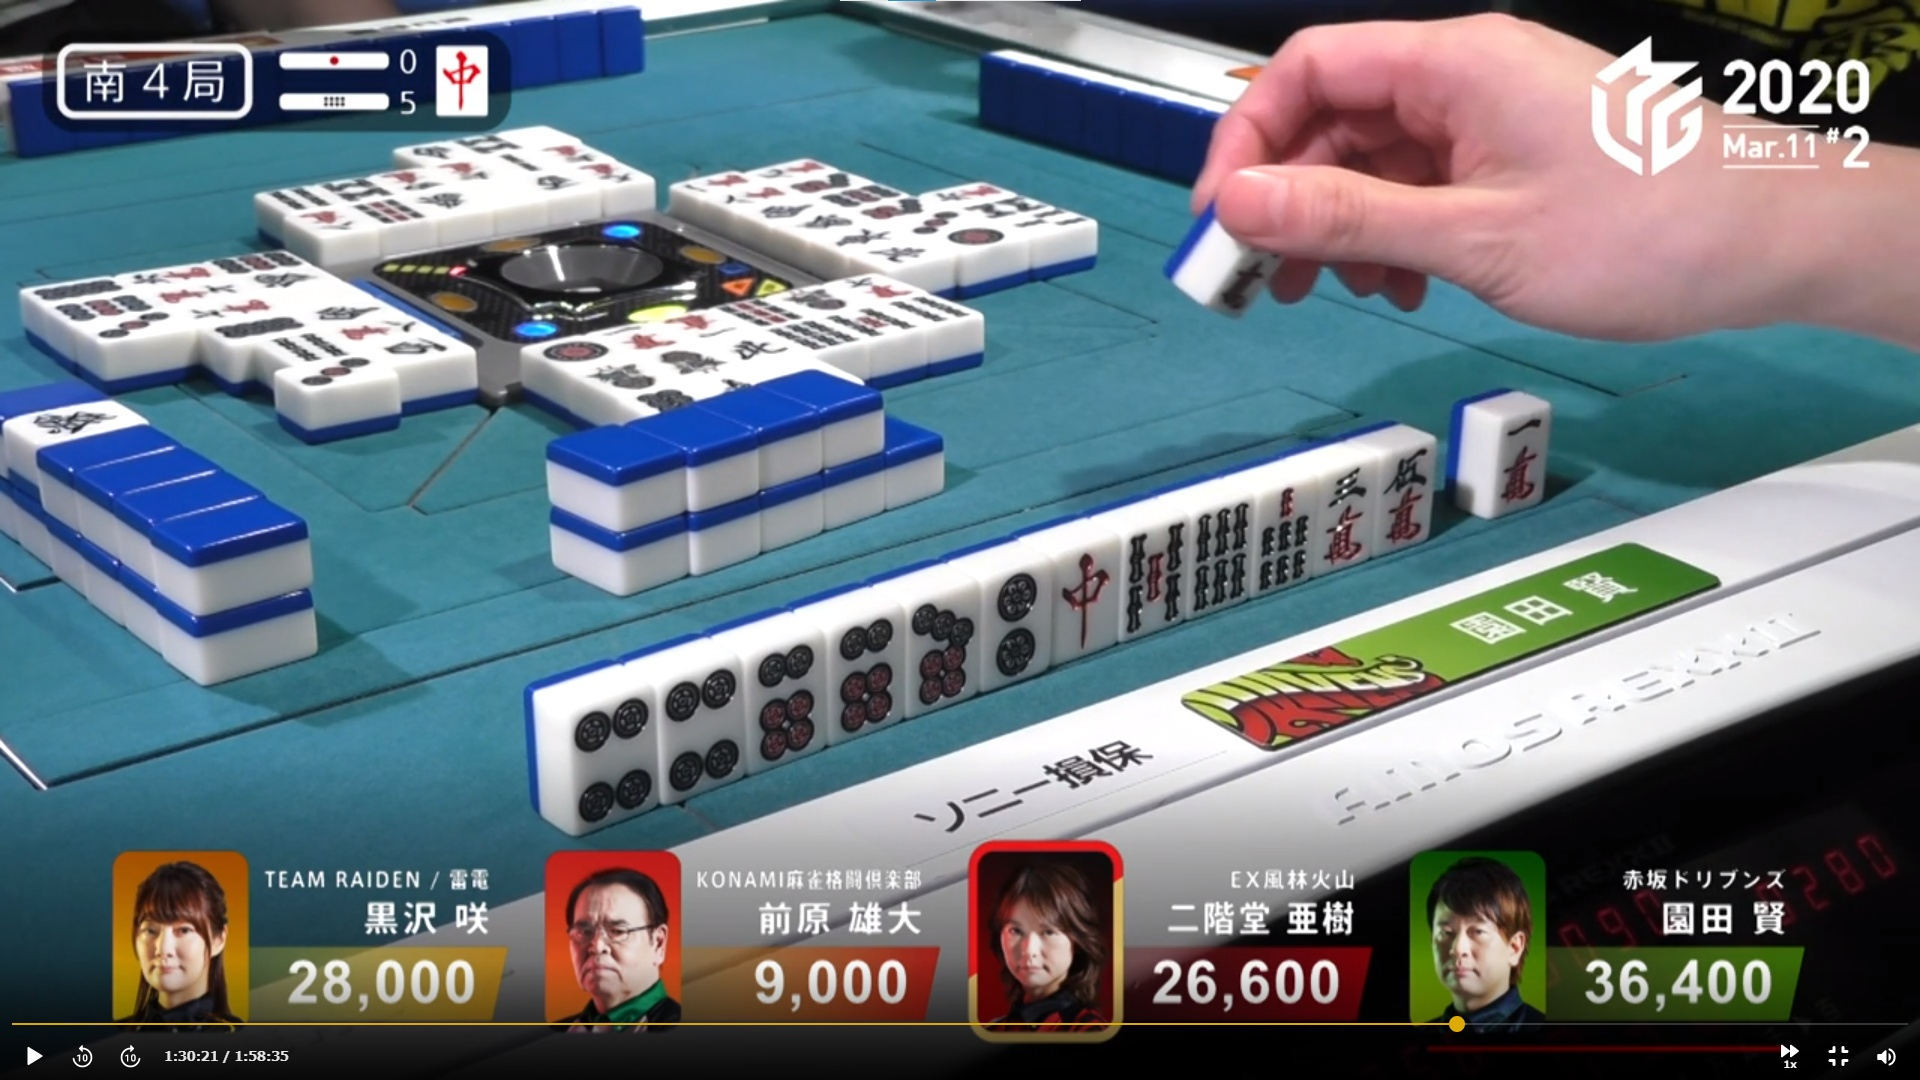1m: (1495, 402, 1547, 517)
2p: (985, 562, 1043, 687)
3m: (1315, 462, 1373, 574)
4p: (566, 692, 657, 818), (655, 659, 738, 793)
5m: (1374, 439, 1435, 555)
5s: (1118, 522, 1188, 632)
6p: (746, 638, 825, 766), (829, 613, 893, 733)
6s: (1188, 501, 1249, 609)
7p: (899, 588, 986, 712)
7s: (1254, 477, 1311, 597)
chun: (1052, 535, 1118, 651)
hand_nan_4: (51, 37, 260, 123)
round_5: (266, 84, 433, 120)
team_drivens: (1174, 628, 1476, 750)
